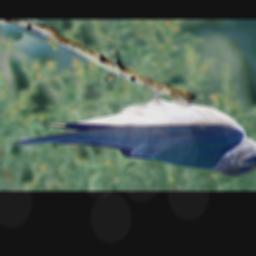Swallow: (14, 83, 256, 177)
